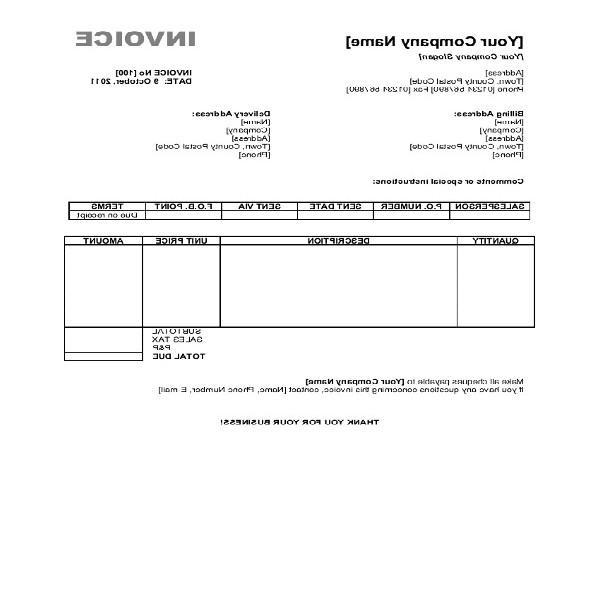test: (64, 201, 534, 360)
